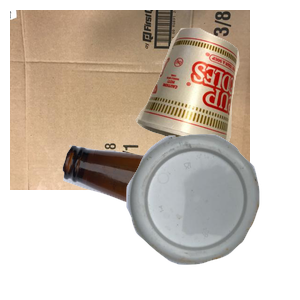cardboard: (10, 10, 250, 190)
glass: (60, 142, 300, 300)
plastic: (124, 132, 300, 300)
trash: (133, 25, 300, 167)
